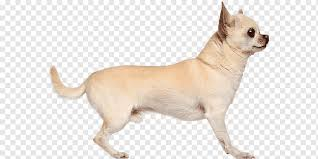Chihuahua: (46, 1, 282, 159)
